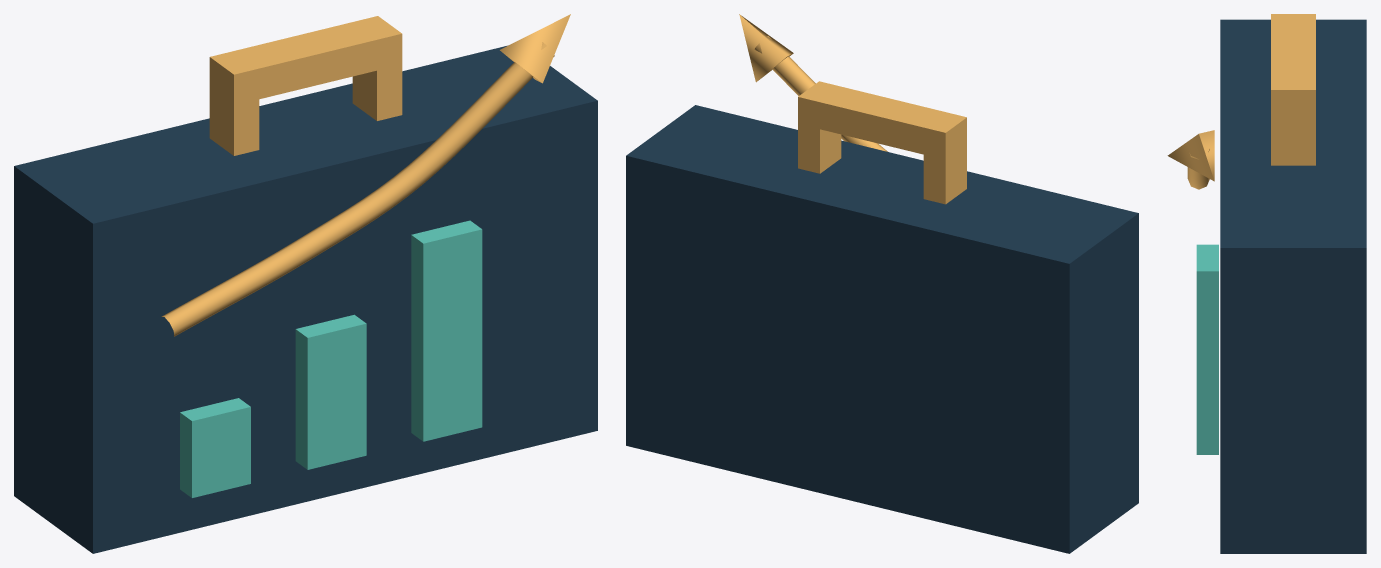
File: sales.glb
3 renders of one model, left to right at view 1: azimuth 30°, elevation 25°; view 2: azimuth 150°, elevation 25°; view 3: azimuth 270°, elevation 25°, orthographic. The views are drawn at different scales.
Visible parts, largest first — view 1: briefcase, growth-bar (×3), growth-arrow, handle-top, handle-side (×2), arrow-tip; view 2: briefcase, handle-top, handle-side (×2), arrow-tip, growth-arrow; view 3: briefcase, growth-bar, handle-top, handle-side, arrow-tip, growth-arrow.
Boxes of the visible parts, <box> form: briefcase: <box>14,45,597,553</box>; growth-bar (×3): <box>180,220,482,497</box>; growth-arrow: <box>161,42,554,336</box>; handle-top: <box>209,16,402,105</box>; handle-side (×2): <box>209,50,402,155</box>; arrow-tip: <box>500,14,570,83</box>; briefcase: <box>626,105,1138,553</box>; handle-top: <box>798,81,966,159</box>; handle-side (×2): <box>798,124,966,204</box>; arrow-tip: <box>739,14,793,82</box>; growth-arrow: <box>754,36,887,151</box>; briefcase: <box>1220,19,1366,553</box>; growth-bar: <box>1196,244,1218,454</box>; handle-top: <box>1271,14,1315,118</box>; handle-side: <box>1271,104,1315,165</box>; arrow-tip: <box>1167,130,1214,181</box>; growth-arrow: <box>1187,149,1209,189</box>.
Bounding box in the file's own units: 2.4 × 1.97 × 0.885.
